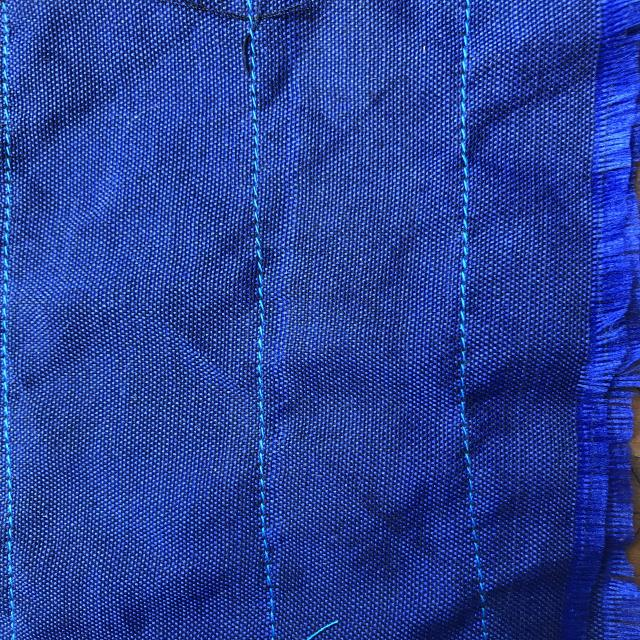good: (447, 198, 486, 358), (247, 135, 273, 267)
